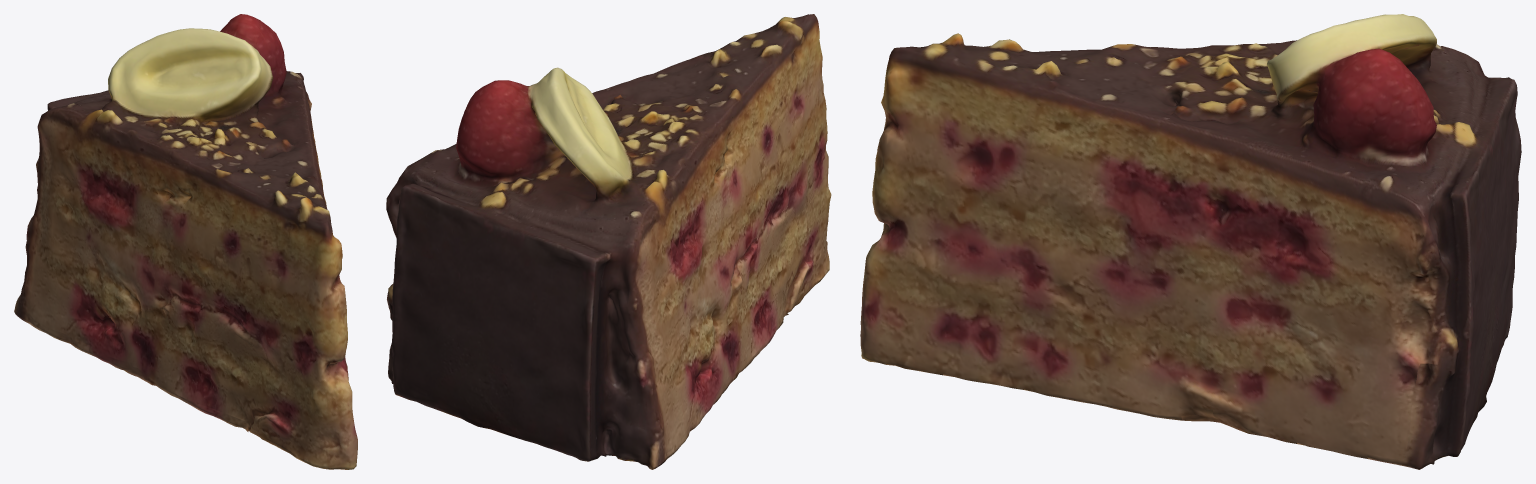
Rendered from CakePiece.fbx.
The picture shows the model from 3 angles, left to right: view 1: azimuth 30°, elevation 25°; view 2: azimuth 150°, elevation 25°; view 3: azimuth 270°, elevation 25°; orthographic projection. The views are drawn at different scales.
Parts seen in each view (by area): view 1: CakePiece; view 2: CakePiece; view 3: CakePiece.
Part boxes in pixels (<box>): CakePiece: <box>14,14,357,469</box>; CakePiece: <box>386,14,831,469</box>; CakePiece: <box>860,14,1521,469</box>.
Size of the model in its own units: 20.29 by 20.26 by 32.95.
1 material, 1 textured.
